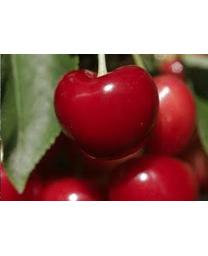cherry: (52, 64, 160, 162)
